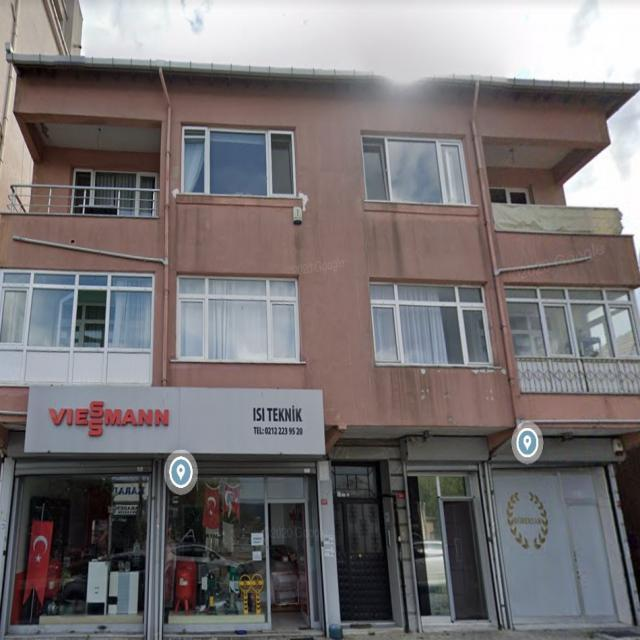Building: (1, 55, 640, 637)
